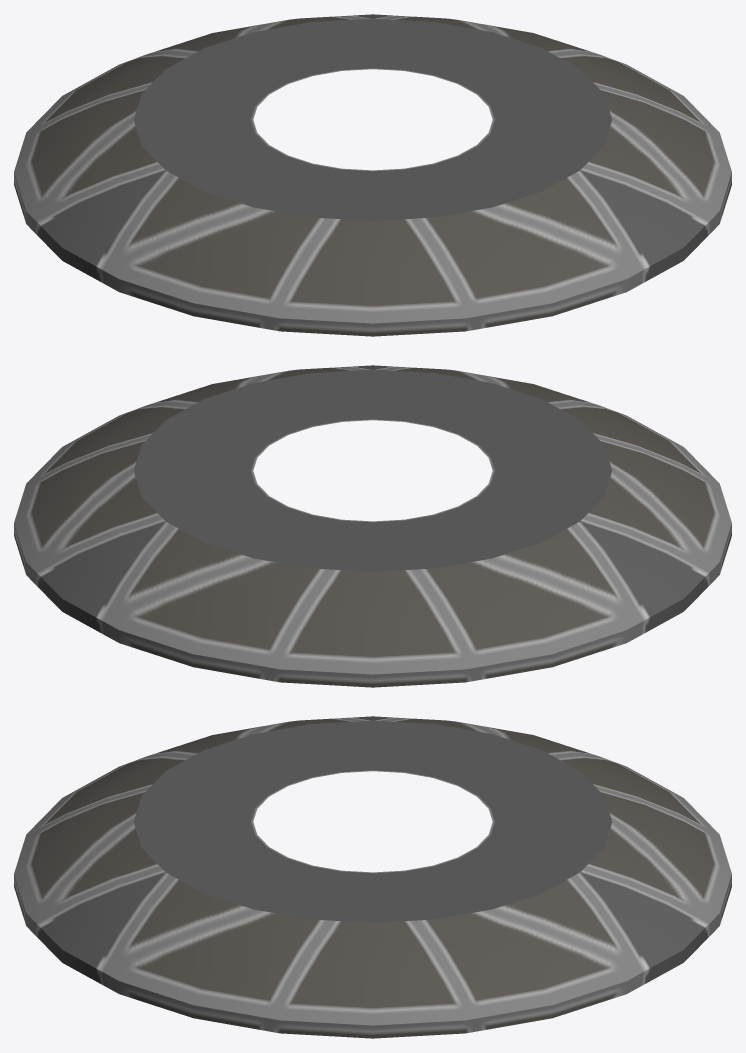
The model's file is 1p5to1naked.obj.
3 renders of one model, top to bottom at view 1: azimuth 30°, elevation 25°; view 2: azimuth 150°, elevation 25°; view 3: azimuth 270°, elevation 25°, orthographic.
Visible parts, largest first — view 1: 1; view 2: 1; view 3: 1.
Boxes of the visible parts, <box> form: 1: <box>14,14,731,336</box>; 1: <box>14,365,731,687</box>; 1: <box>14,716,731,1038</box>.
Size of the model in its own units: 1.88 by 0.1875 by 1.88.
